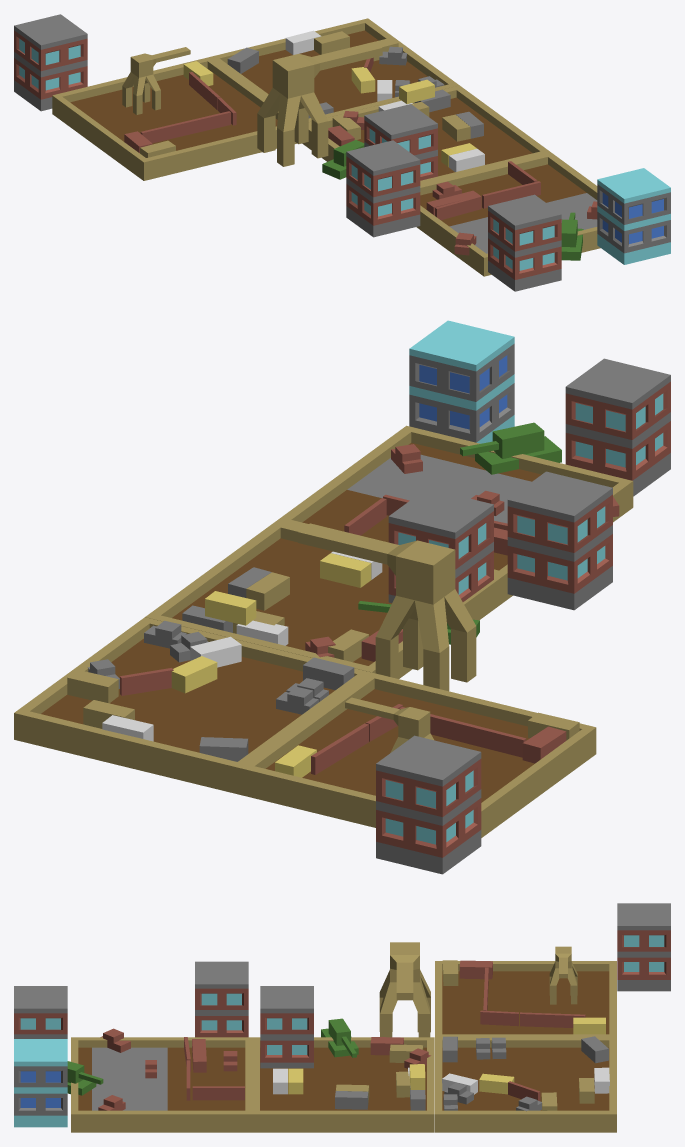
3 renders of one model, top to bottom at view 1: azimuth 30°, elevation 25°; view 2: azimuth 150°, elevation 25°; view 3: azimuth 270°, elevation 25°, orthographic. The views are drawn at different scales.
Parts seen in each view (by area): view 1: Cube.006; view 2: Cube.006; view 3: Cube.006.
Part boxes in pixels (bbox=[...]): Cube.006: bbox=[14, 14, 670, 291]; Cube.006: bbox=[14, 320, 670, 874]; Cube.006: bbox=[14, 903, 670, 1132].
Bounding box in the file's own units: 412 × 117 × 722.
